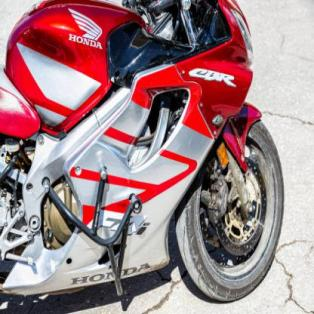Motocicleta: (1, 0, 284, 314)
